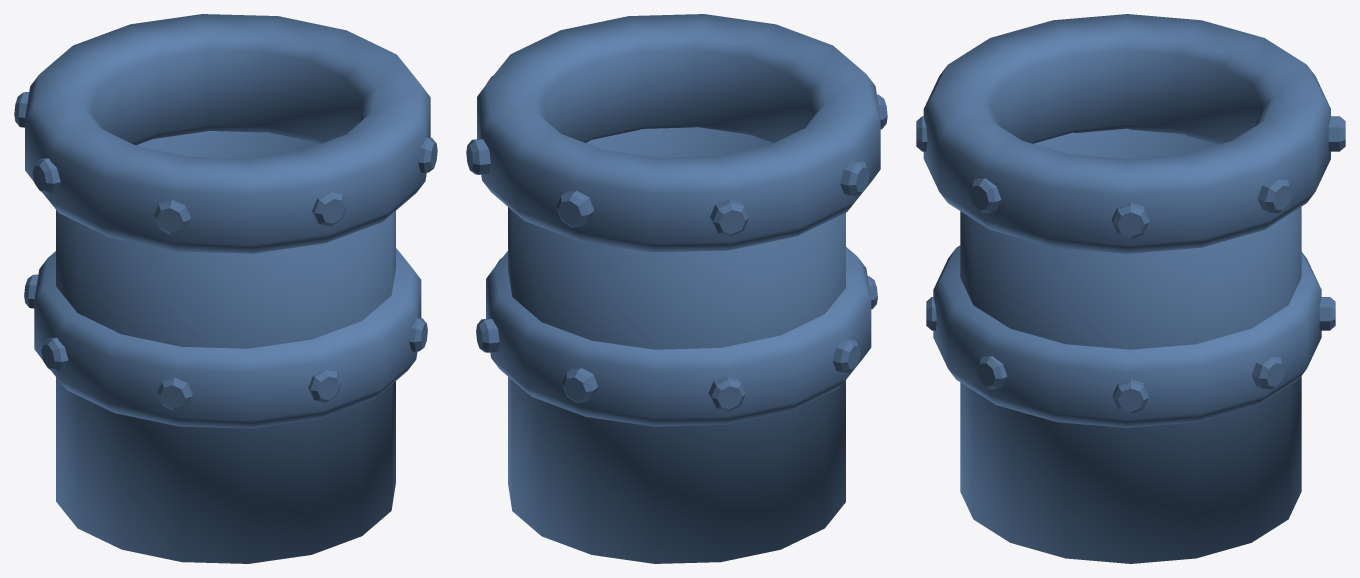
Rendered from Pipe_End.glb.
The picture shows the model from 3 angles, left to right: view 1: azimuth 30°, elevation 25°; view 2: azimuth 150°, elevation 25°; view 3: azimuth 270°, elevation 25°; orthographic projection.
Visible parts, largest first — view 1: Pipe_End; view 2: Pipe_End; view 3: Pipe_End.
Part boxes in pixels (bbox=[...]): Pipe_End: bbox=[14, 14, 437, 563]; Pipe_End: bbox=[466, 14, 887, 563]; Pipe_End: bbox=[916, 14, 1345, 563].
Size of the model in its own units: 2.18 by 2.22 by 2.18.
